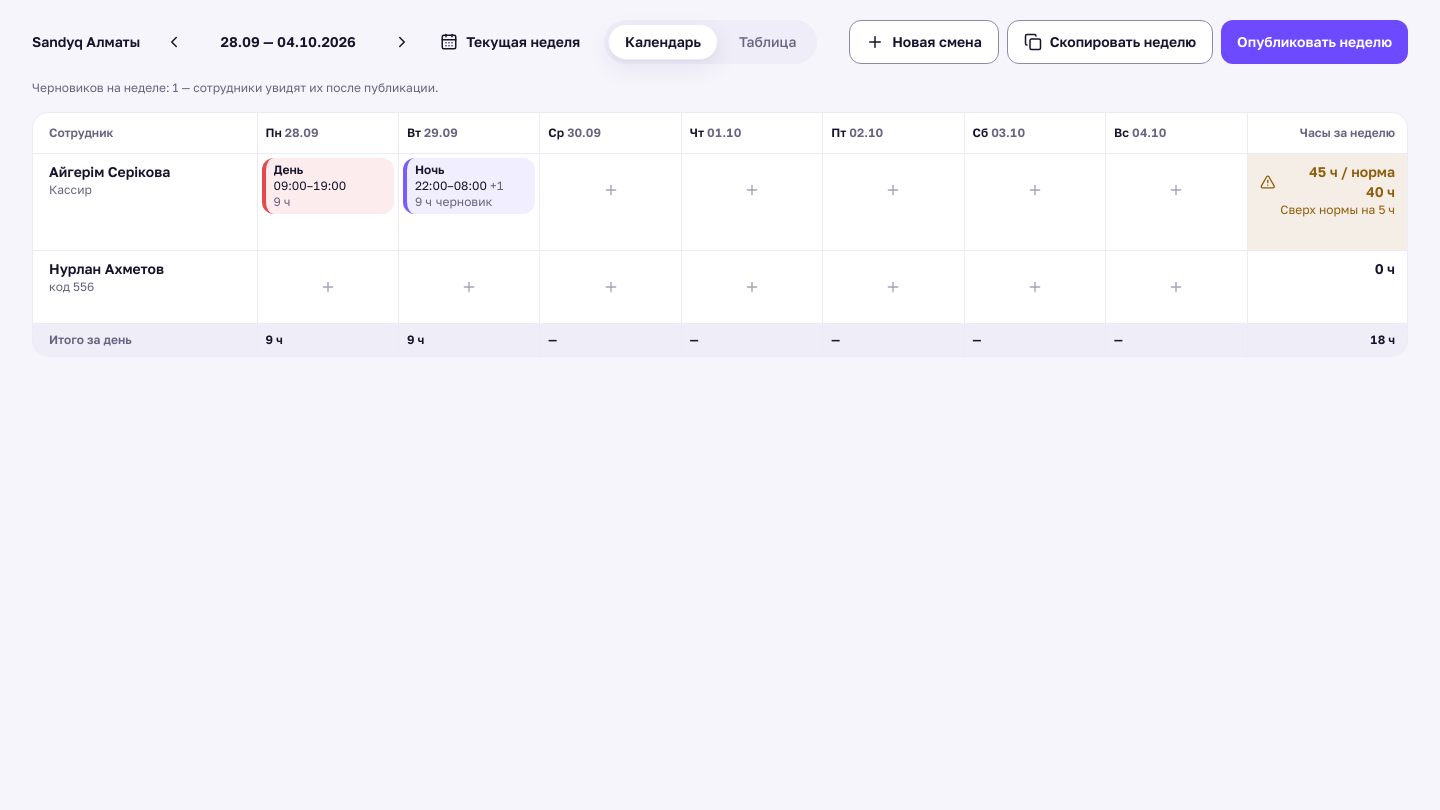
it: «Расписание» week calendar › an overlap from the server stays in the dialog
The image size is (1440, 810).
Click the button with aria-label "Смена: Айгерім Серікова, Вт 29.09": (469, 186) top-left (403, 158), bottom-right (535, 214)
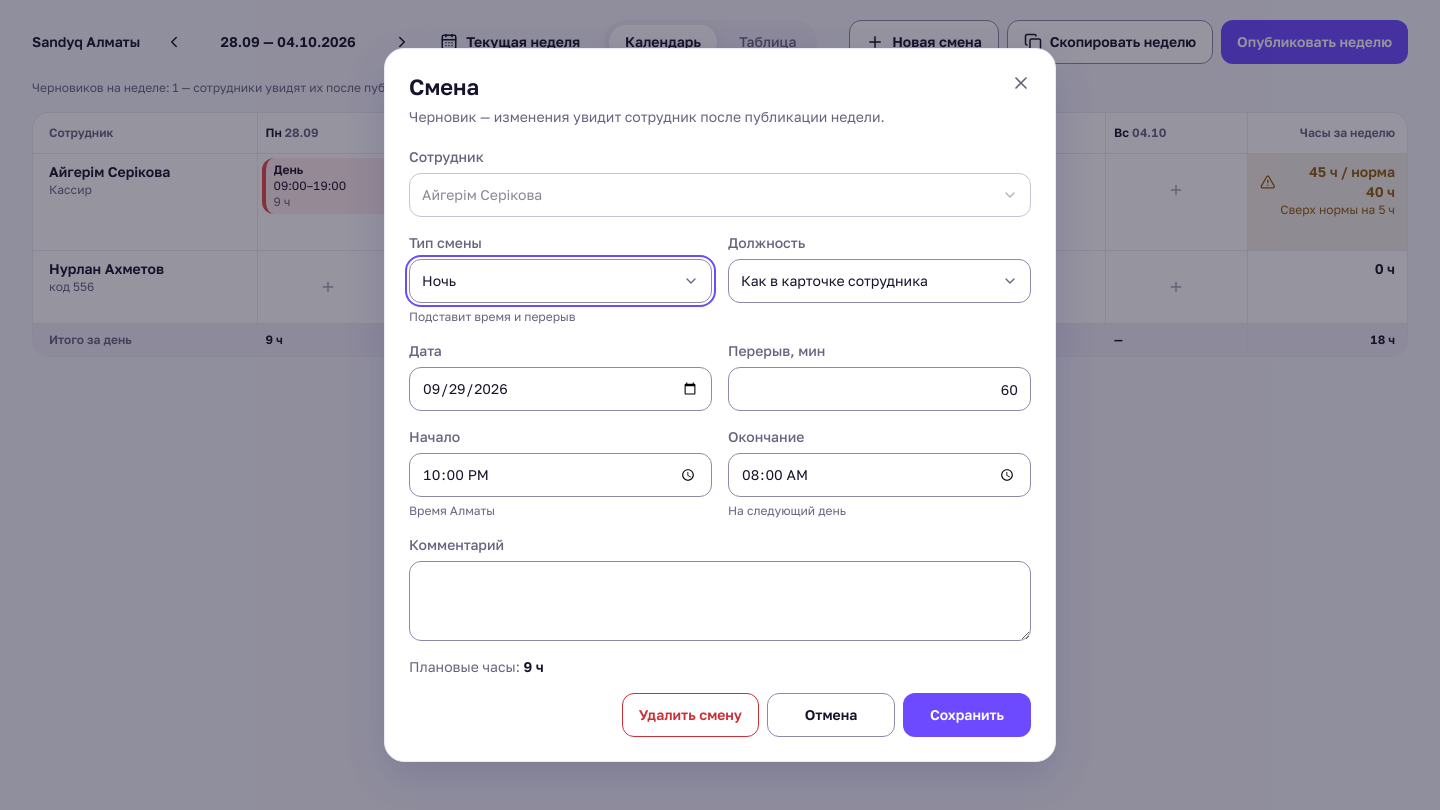
Click the button "Сохранить": (967, 715) top-left (903, 693), bottom-right (1031, 737)
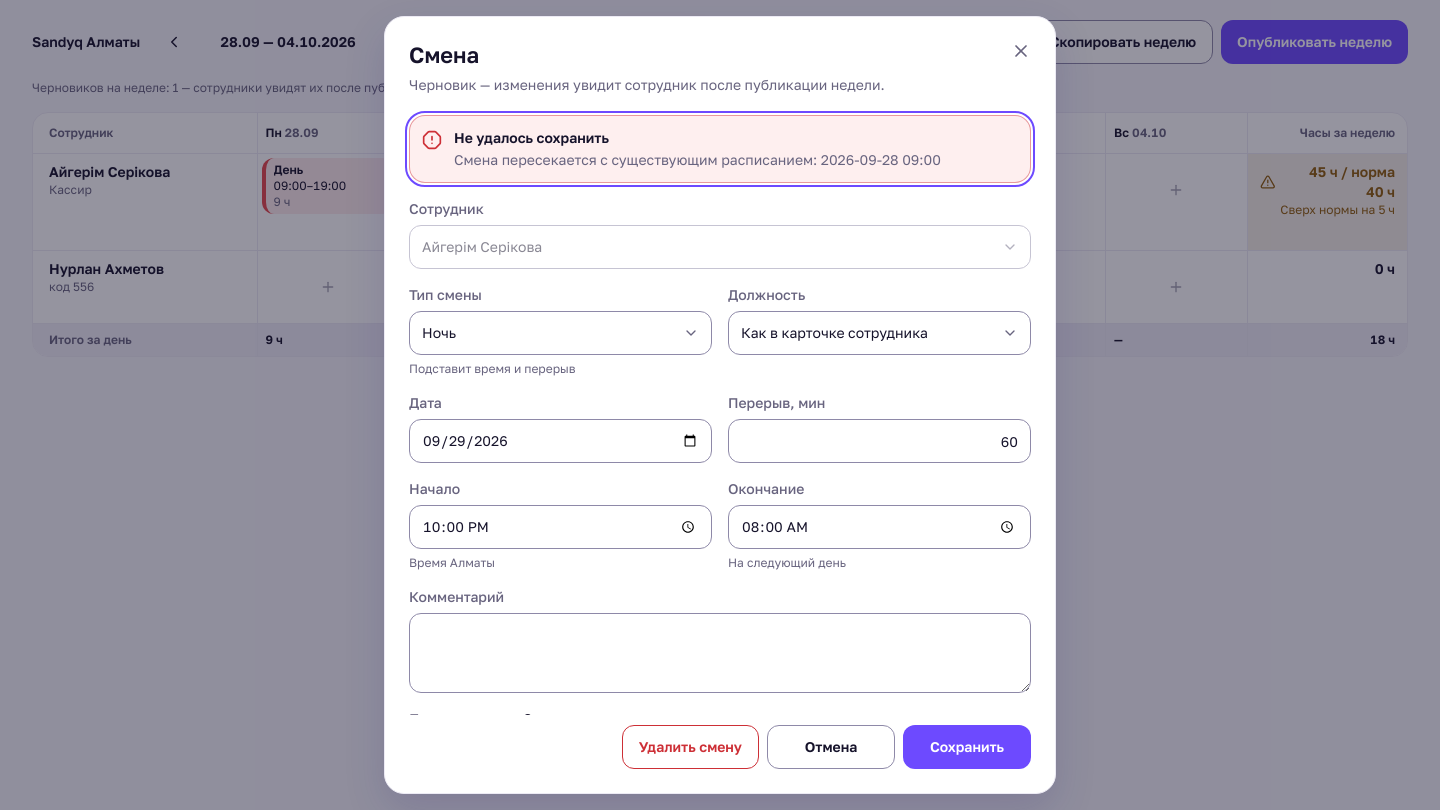
Check: the text "пересекается с существующим расписанием" is shown, box top-left (454, 151), bottom-right (941, 168)
